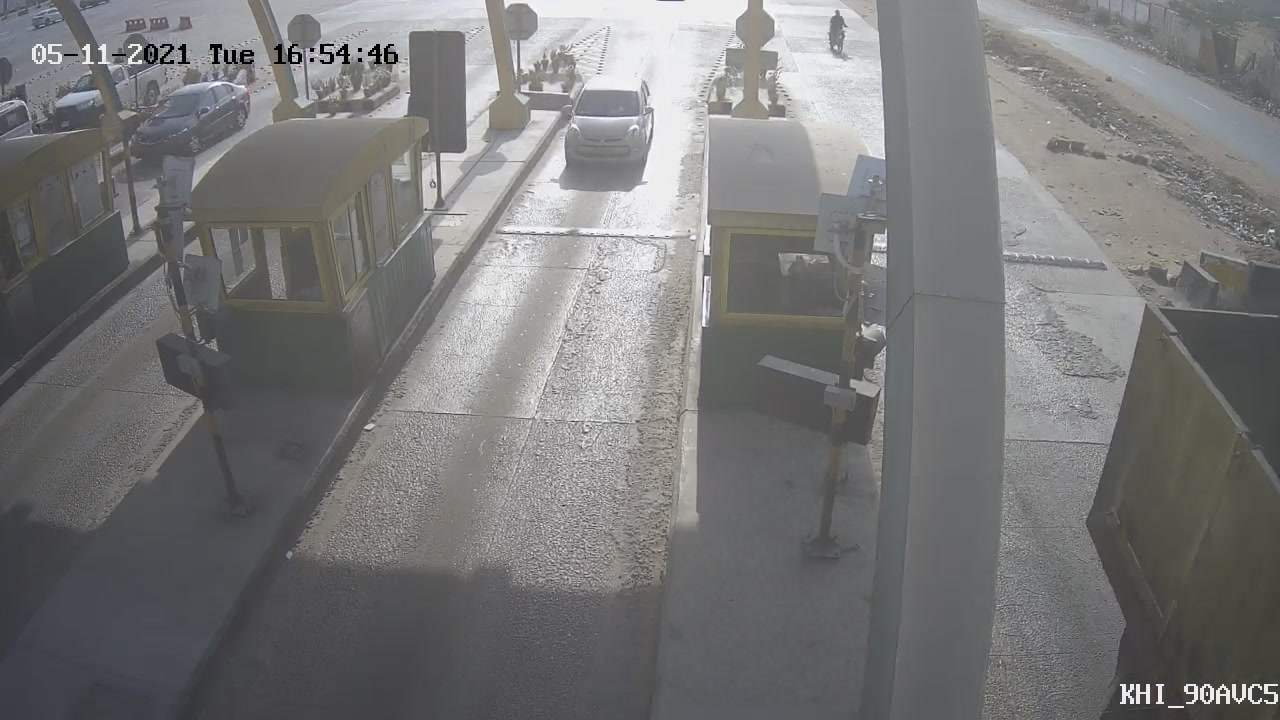F1: (543, 59, 672, 188)
